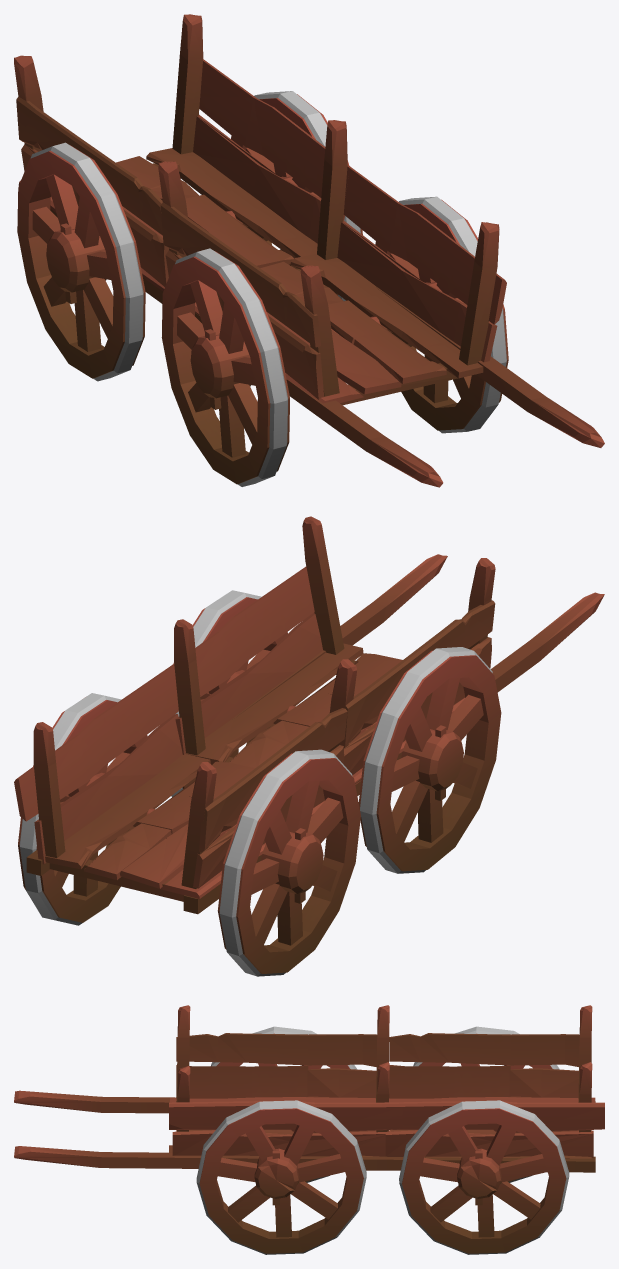
Rendered from cartbig1.glb.
3 renders of one model, top to bottom at view 1: azimuth 30°, elevation 25°; view 2: azimuth 150°, elevation 25°; view 3: azimuth 270°, elevation 25°, orthographic. The views are drawn at different scales.
Parts seen in each view (by area): view 1: CartBig1_mesh1; view 2: CartBig1_mesh1; view 3: CartBig1_mesh1.
Boxes of the visible parts, bbox=[...] form: CartBig1_mesh1: bbox=[14, 14, 604, 487]; CartBig1_mesh1: bbox=[14, 516, 604, 976]; CartBig1_mesh1: bbox=[14, 1005, 604, 1254].
Size of the model in its own units: 2.4 by 2.3 by 6.78.
1 material, 1 textured.
